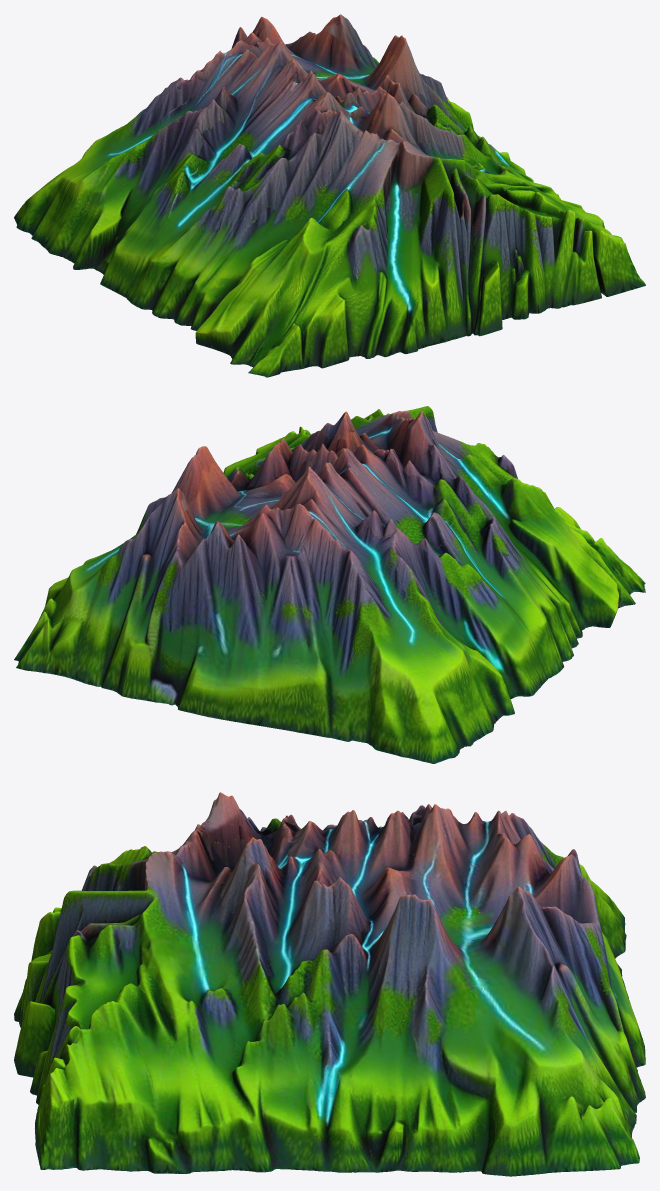
File: mountain_v2_mobile.glb
The picture shows the model from 3 angles, top to bottom: view 1: azimuth 30°, elevation 25°; view 2: azimuth 150°, elevation 25°; view 3: azimuth 270°, elevation 25°; orthographic projection. The views are drawn at different scales.
Size of the model in its own units: 1.89 by 0.7757 by 1.9.
1 material, 1 textured.
